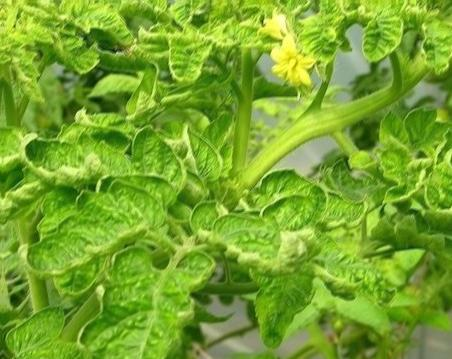Tomato leaf yellow virus: (185, 167, 354, 272), (14, 121, 184, 215), (16, 182, 154, 289), (84, 241, 202, 359), (134, 15, 281, 105), (233, 254, 320, 354), (44, 0, 136, 56), (292, 0, 367, 65), (166, 128, 230, 183), (352, 12, 406, 73), (413, 10, 452, 83), (417, 144, 452, 216)
